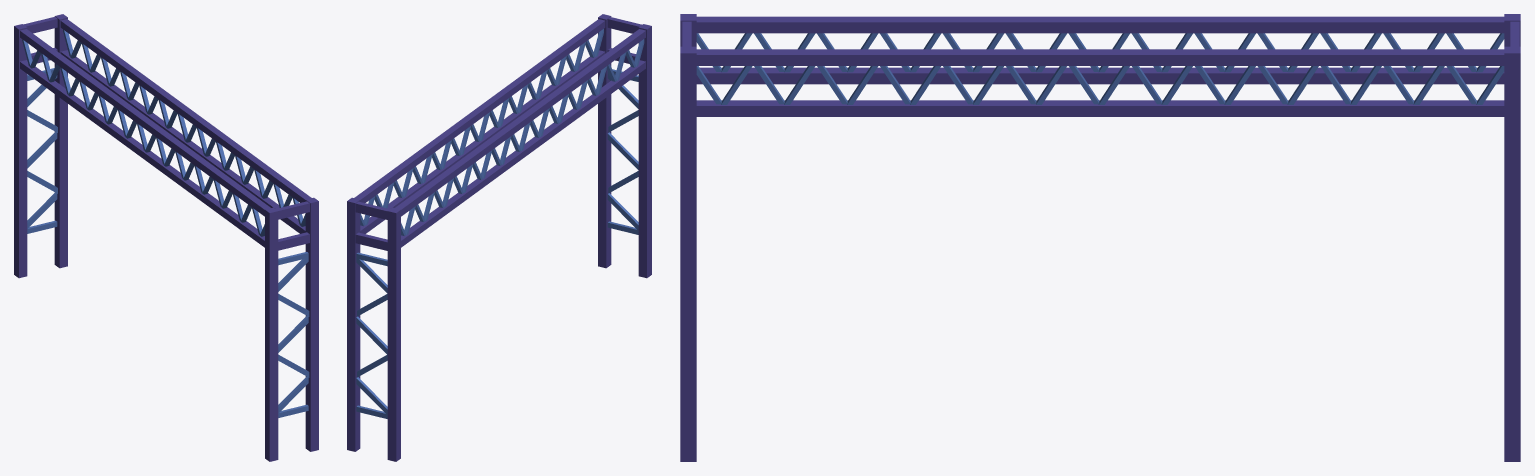
File: SignHolder_4_E.fbx
3 views of the same model, side by side, from view 1: azimuth 30°, elevation 25°; view 2: azimuth 150°, elevation 25°; view 3: azimuth 270°, elevation 25° (orthographic). The views are drawn at different scales.
Parts seen in each view (by area): view 1: SignHolder_4_E; view 2: SignHolder_4_E; view 3: SignHolder_4_E.
Part boxes in pixels (box(x1,y1,x2,y2)): SignHolder_4_E: box(14, 14, 318, 461); SignHolder_4_E: box(347, 14, 651, 461); SignHolder_4_E: box(680, 14, 1520, 461).
Bounding box in the file's own units: 98.7 × 477 × 889.
